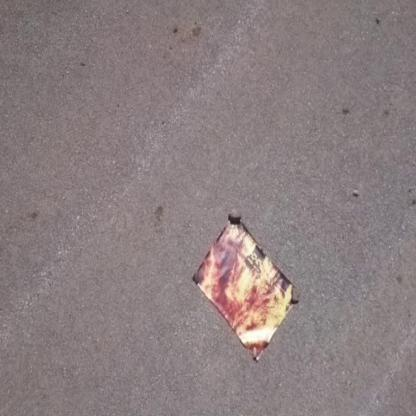fire-poster: (190, 211, 299, 363)
